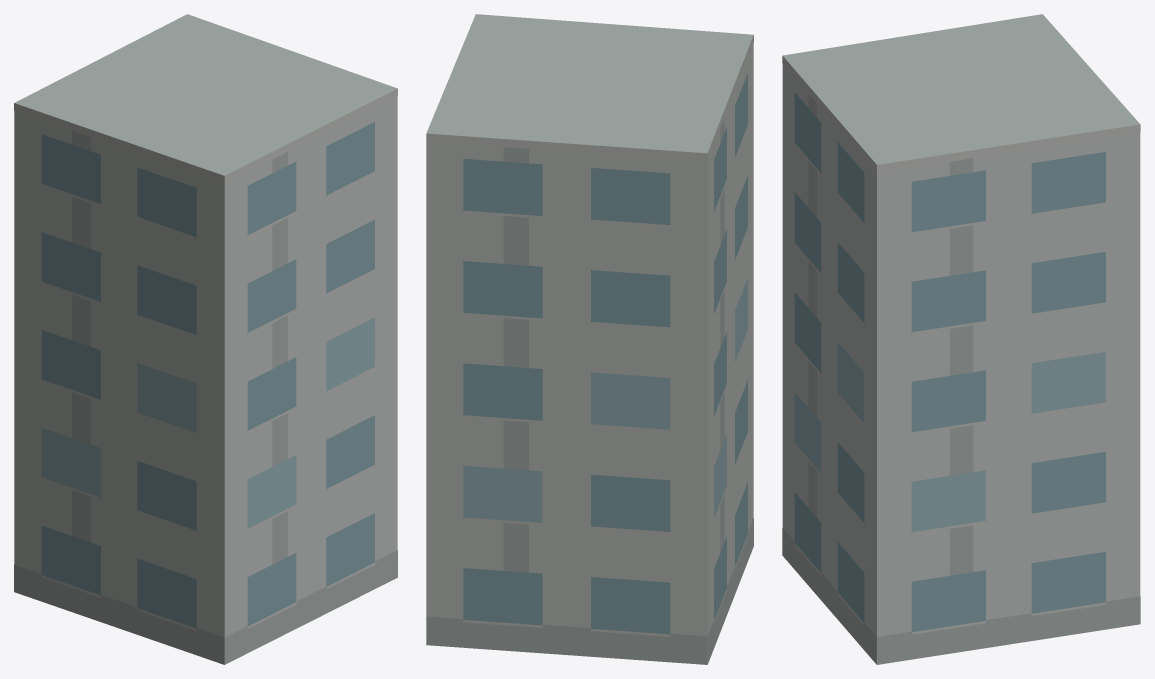
Rendered from survey-upis-32647482.glb.
3 views of the same model, side by side, from view 1: azimuth 30°, elevation 25°; view 2: azimuth 150°, elevation 25°; view 3: azimuth 270°, elevation 25° (orthographic). The views are drawn at different scales.
Visible parts, largest first — view 1: survey-upis-32647482.tmp; view 2: survey-upis-32647482.tmp; view 3: survey-upis-32647482.tmp.
Part boxes in pixels (x1,y1,x2,y2): survey-upis-32647482.tmp: [14, 14, 397, 664]; survey-upis-32647482.tmp: [426, 14, 753, 664]; survey-upis-32647482.tmp: [782, 14, 1140, 664].
Bounding box in the file's own units: 9.89 × 15.25 × 9.91.
